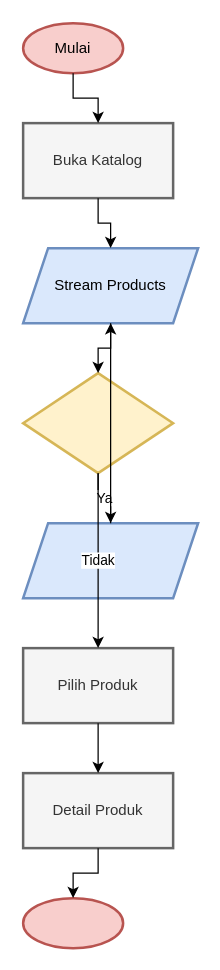
Some shapes in this 220 by 970 pixel diagram are drawn without their labels. Each missing label, with the centre of its shape:
"Cari Produk?" belongs at (x=97, y=422).
"Input Keyword" belongs at (x=110, y=560).
"Selesai" belongs at (x=72, y=922).
